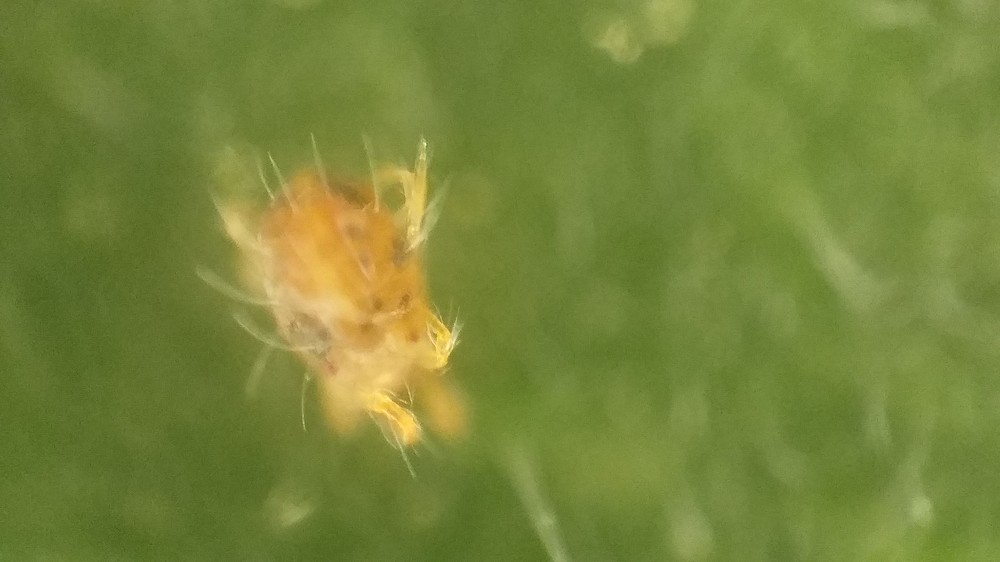Aracnido Rojo: (185, 128, 496, 484)
